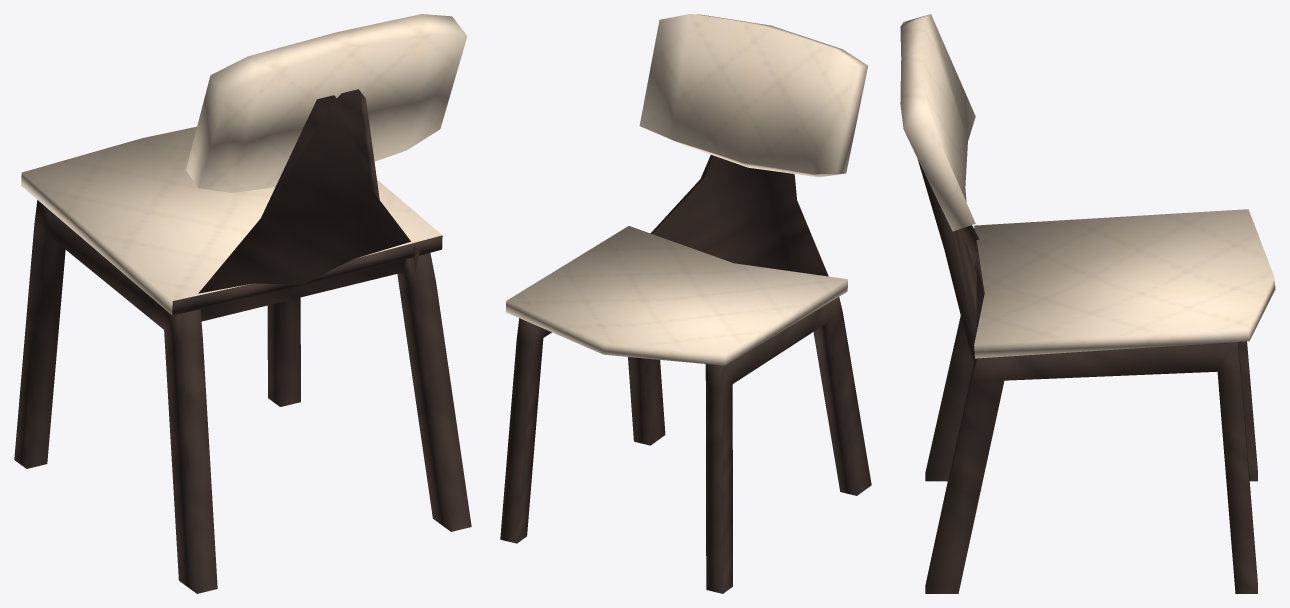
Rendered from Chair-LowPoly-forexporting.glb.
The picture shows the model from 3 angles, left to right: view 1: azimuth 30°, elevation 25°; view 2: azimuth 150°, elevation 25°; view 3: azimuth 270°, elevation 25°; orthographic projection. The views are drawn at different scales.
Visible parts, largest first — view 1: Back; view 2: Back; view 3: Back.
Boxes of the visible parts, left/top/right/bottom form: Back: left=14, top=14, right=471, bottom=593; Back: left=500, top=14, right=871, bottom=593; Back: left=900, top=14, right=1275, bottom=593.
Size of the model in its own units: 1.63 by 3 by 2.12.
1 material, 1 textured.
